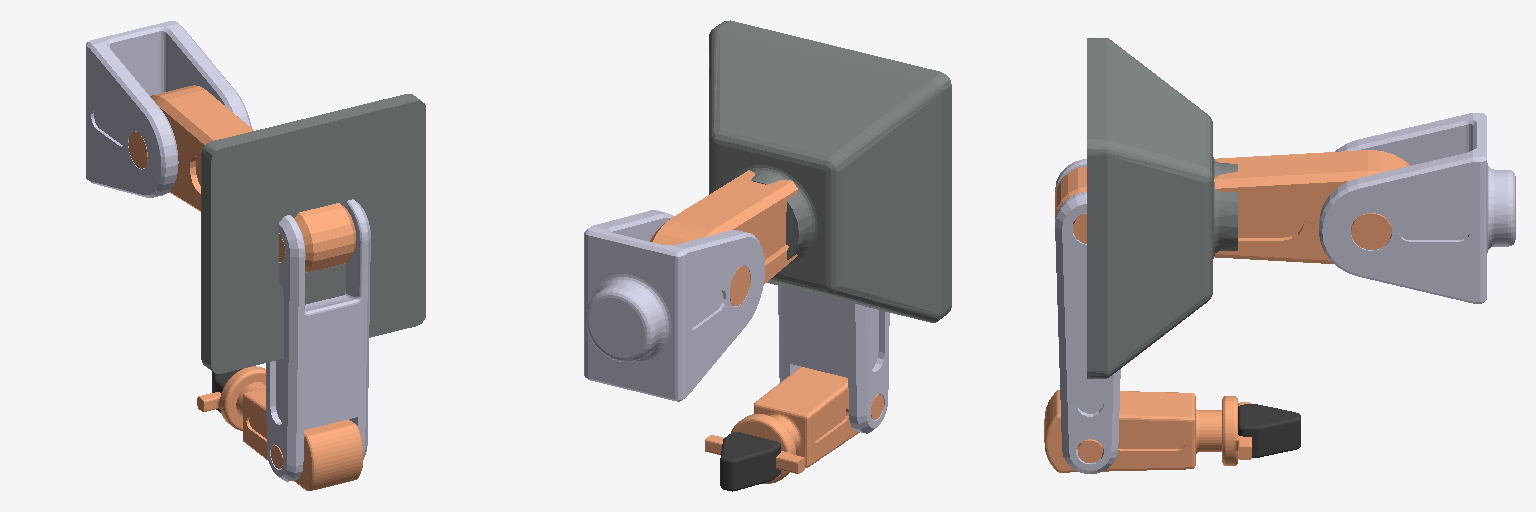
The robot description file, URDF, robot "marvin":
<?xml version="1.0" ?>
<!-- =================================================================================== -->
<!-- |    This document was autogenerated by xacro from marvin.urdf                    | -->
<!-- |    EDITING THIS FILE BY HAND IS NOT RECOMMENDED                                 | -->
<!-- =================================================================================== -->
<robot name="marvin">
  <link name="base_link">
    <inertial>
      <origin rpy="0 0 0" xyz="4.7705E-17 0.073876 5.5262E-18"/>
      <mass value="133.74"/>
      <inertia ixx="1.4976" ixy="-1.8169E-18" ixz="3.855E-09" iyy="2.3044" iyz="-1.0676E-16" izz="1.4976"/>
    </inertial>
    <visual>
      <origin rpy="0 0 0" xyz="0 0 0"/>
      <geometry>
        <mesh filename="package://marvin_description/meshes/base_link.STL"/>
      </geometry>
      <material name="">
        <color rgba="0.52941 0.54902 0.54902 1"/>
      </material>
    </visual>
    <collision>
      <origin rpy="0 0 0" xyz="0 0 0"/>
      <geometry>
        <mesh filename="package://marvin_description/meshes/base_link.STL"/>
      </geometry>
    </collision>
  </link>
  <link name="link_1">
    <inertial>
      <origin rpy="0 0 0" xyz="-2.5737E-14 0.094534 7.8988E-11"/>
      <mass value="24.106"/>
      <inertia ixx="0.20515" ixy="1.9756E-14" ixz="1.1058E-11" iyy="0.15313" iyz="-5.8138E-11" izz="0.19803"/>
    </inertial>
    <visual>
      <origin rpy="0 0 0" xyz="0 0 0"/>
      <geometry>
        <mesh filename="package://marvin_description/meshes/link_1.STL"/>
      </geometry>
      <material name="">
        <color rgba="0.83922 0.83922 0.92157 1"/>
      </material>
    </visual>
    <collision>
      <origin rpy="0 0 0" xyz="0 0 0"/>
      <geometry>
        <mesh filename="package://marvin_description/meshes/link_1.STL"/>
      </geometry>
    </collision>
  </link>
  <joint name="joint_1" type="revolute">
    <origin rpy="0 -1.5708 0" xyz="0 0.405 0"/>
    <parent link="base_link"/>
    <child link="link_1"/>
    <axis xyz="0 0 0"/>
    <limit effort="300" lower="0" upper="3.142" velocity="3"/>
  </joint>
  <link name="link_22">
    <inertial>
      <origin rpy="0 0 0" xyz="-1.0537E-16 -0.16752 1.7347E-18"/>
      <mass value="43.576"/>
      <inertia ixx="0.98533" ixy="-1.1733E-16" ixz="8.4571E-18" iyy="0.088926" iyz="9.205E-17" izz="1.0071"/>
    </inertial>
    <visual>
      <origin rpy="0 0 0" xyz="0 0 0"/>
      <geometry>
        <mesh filename="package://marvin_description/meshes/link_22.STL"/>
      </geometry>
      <material name="">
        <color rgba="1 0.6902 0.5098 1"/>
      </material>
    </visual>
    <collision>
      <origin rpy="0 0 0" xyz="0 0 0"/>
      <geometry>
        <mesh filename="package://marvin_description/meshes/link_22.STL"/>
      </geometry>
    </collision>
  </link>
  <joint name="joint_2" type="revolute">
    <origin rpy="0 0 0" xyz="0 0 0"/>
    <parent link="link_1"/>
    <child link="link_22"/>
    <axis xyz="0 0 0"/>
    <limit effort="200" lower="-1.57" upper="1.57" velocity="3"/>
  </joint>
  <link name="link_3">
    <inertial>
      <origin rpy="0 0 0" xyz="-0.17893 -0.4 -2.7235E-16"/>
      <mass value="22.044"/>
      <inertia ixx="0.057752" ixy="6.2611E-17" ixz="1.1658E-16" iyy="0.2227" iyz="-2.7094E-09" izz="0.196"/>
    </inertial>
    <visual>
      <origin rpy="0 0 0" xyz="0 0 0"/>
      <geometry>
        <mesh filename="package://marvin_description/meshes/link_3.STL"/>
      </geometry>
      <material name="">
        <color rgba="0.83922 0.83922 0.92157 1"/>
      </material>
    </visual>
    <collision>
      <origin rpy="0 0 0" xyz="0 0 0"/>
      <geometry>
        <mesh filename="package://marvin_description/meshes/link_3.STL"/>
      </geometry>
    </collision>
  </link>
  <joint name="joint_3" type="revolute">
    <origin rpy="0 0 0" xyz="0 0 0"/>
    <parent link="link_22"/>
    <child link="link_3"/>
    <axis xyz="0 0 0"/>
    <limit effort="200" lower="0" upper="3.142" velocity="3"/>
  </joint>
  <link name="link_4">
    <inertial>
      <origin rpy="0 0 0" xyz="-0.40167 0.4 -1.0842E-16"/>
      <mass value="14.116"/>
      <inertia ixx="0.018027" ixy="-3.7045E-17" ixz="-1.5488E-18" iyy="0.07496" iyz="1.6804E-19" izz="0.073248"/>
    </inertial>
    <visual>
      <origin rpy="0 0 0" xyz="0 0 0"/>
      <geometry>
        <mesh filename="package://marvin_description/meshes/link_4.STL"/>
      </geometry>
      <material name="">
        <color rgba="1 0.6902 0.5098 1"/>
      </material>
    </visual>
    <collision>
      <origin rpy="0 0 0" xyz="0 0 0"/>
      <geometry>
        <mesh filename="package://marvin_description/meshes/link_4.STL"/>
      </geometry>
    </collision>
  </link>
  <joint name="joint_4" type="revolute">
    <origin rpy="3.1416 0 -1.5708" xyz="0.05 -0.75 0"/>
    <parent link="link_3"/>
    <child link="link_4"/>
    <axis xyz="0 0 0"/>
    <limit effort="200" lower="0" upper="-3.142" velocity="3"/>
  </joint>
  <link name="link_5">
    <inertial>
      <origin rpy="0 0 0" xyz="-0.558543881206724 0.4 -3.81639164714898E-17"/>
      <mass value="1.48616706965233"/>
      <inertia ixx="0.00235532754630849" ixy="-3.3107237909334E-19" ixz="3.90379197077206E-19" iyy="0.00177970514063146" iyz="-1.53376623170845E-10" izz="0.000923748330587561"/>
    </inertial>
    <visual>
      <origin rpy="0 0 0" xyz="0 0 0"/>
      <geometry>
        <mesh filename="package://marvin_description/meshes/link_5.STL"/>
      </geometry>
      <material name="">
        <color rgba="1 0.690196078431373 0.509803921568627 1"/>
      </material>
    </visual>
    <collision>
      <origin rpy="0 0 0" xyz="0 0 0"/>
      <geometry>
        <mesh filename="package://marvin_description/meshes/link_5.STL"/>
      </geometry>
    </collision>
  </link>
  <joint name="joint_5" type="revolute">
    <origin rpy="0 0 0" xyz="0.002 0 0"/>
    <parent link="link_4"/>
    <child link="link_5"/>
    <axis xyz="0 0 0"/>
    <limit effort="200" lower="0" upper="3.142" velocity="3"/>
  </joint>
  <link name="link_6">
    <inertial>
      <origin rpy="0 0 0" xyz="-0.60237 0.4 -0.016013"/>
      <mass value="0.11653"/>
      <inertia ixx="3.9246E-05" ixy="-4.7702E-20" ixz="1.0258E-05" iyy="7.1189E-05" iyz="-4.3552E-20" izz="8.4875E-05"/>
    </inertial>
    <visual>
      <origin rpy="0 0 0" xyz="0 0 0"/>
      <geometry>
        <mesh filename="package://marvin_description/meshes/link_6.STL"/>
      </geometry>
      <material name="">
        <color rgba="0.29412 0.29412 0.29412 1"/>
      </material>
    </visual>
    <collision>
      <origin rpy="0 0 0" xyz="0 0 0"/>
      <geometry>
        <mesh filename="package://marvin_description/meshes/link_6.STL"/>
      </geometry>
    </collision>
  </link>
  <joint name="joint_6" type="prismatic">
    <origin rpy="0 0 0" xyz="0 0 0"/>
    <parent link="link_5"/>
    <child link="link_6"/>
    <axis xyz="0 0 0"/>
    <limit effort="100" lower="0" upper="0.03" velocity="3"/>
  </joint>
  <link name="link_7">
    <inertial>
      <origin rpy="0 0 0" xyz="-0.602368573581709 0.4 -0.0160129768886558"/>
      <mass value="0.116532917792388"/>
      <inertia ixx="3.92458903876179E-05" ixy="5.94160147879759E-20" ixz="1.0257925743157E-05" iyy="7.11886398907221E-05" iyz="-7.79532126330771E-20" izz="8.48753968585245E-05"/>
    </inertial>
    <visual>
      <origin rpy="0 0 0" xyz="0 0 0"/>
      <geometry>
        <mesh filename="package://marvin_description/meshes/link_7.STL"/>
      </geometry>
      <material name="">
        <color rgba="0.294117647058824 0.294117647058824 0.294117647058824 1"/>
      </material>
    </visual>
    <collision>
      <origin rpy="0 0 0" xyz="0 0 0"/>
      <geometry>
        <mesh filename="package://marvin_description/meshes/link_7.STL"/>
      </geometry>
    </collision>
  </link>
  <joint name="joint_7" type="prismatic">
    <origin rpy="3.1416 0 0" xyz="0 0.8 0"/>
    <parent link="link_5"/>
    <child link="link_7"/>
    <axis xyz="0 0 0"/>
    <limit effort="100" lower="-0.03" upper="0" velocity="3"/>
  </joint>
</robot>

--- Render facts (derived) ---
Views: 3 orthographic renders of the robot side by side, from view 1: azimuth 30°, elevation 25°; view 2: azimuth 150°, elevation 25°; view 3: azimuth 270°, elevation 25°.
Robot: marvin — 8 links, 7 joints (5 revolute, 2 prismatic); root link base_link; default pose: every joint at zero.
Visible links, largest first — view 1: base_link, link_3, link_1, link_22, link_4, link_5; view 2: base_link, link_1, link_3, link_22, link_4, link_6, link_5, link_7; view 3: base_link, link_1, link_22, link_3, link_4, link_7, link_5.
Boxes of the visible links, x1,y1,x2,y2 form: base_link: (201,94,425,373); link_3: (266,199,370,481); link_1: (86,21,251,197); link_22: (128,85,355,272); link_4: (236,382,363,490); link_5: (197,366,265,430); base_link: (709,20,951,322); link_1: (584,210,764,401); link_3: (778,285,889,433); link_22: (650,170,797,305); link_4: (754,367,883,467); link_6: (726,437,780,491); link_5: (705,414,804,483); link_7: (720,432,756,489); base_link: (1087,38,1237,378); link_1: (1319,113,1515,303); link_22: (1055,150,1409,263); link_3: (1055,159,1120,473); link_4: (1044,390,1221,472); link_7: (1238,415,1300,457); link_5: (1222,396,1251,465).
Size in the robot's own frame: 0.3732 by 0.67 by 0.5866 metres.
Meshes: 8 distinct files referenced, 8 mesh visuals loaded (8 binary STL).
